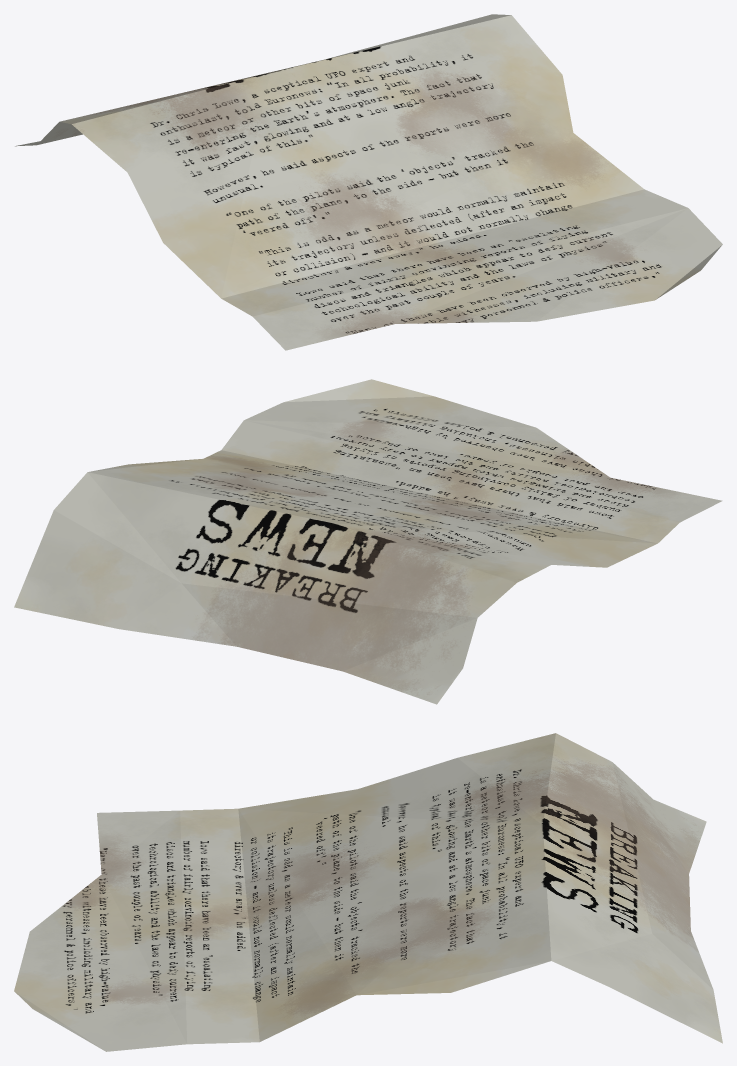
Rendered from SM_Paper_05.fbx.
3 renders of one model, top to bottom at view 1: azimuth 30°, elevation 25°; view 2: azimuth 150°, elevation 25°; view 3: azimuth 270°, elevation 25°, orthographic. The views are drawn at different scales.
Visible parts, largest first — view 1: SM_Paper_05; view 2: SM_Paper_05; view 3: SM_Paper_05.
Boxes of the visible parts, bbox=[...] form: SM_Paper_05: bbox=[15, 14, 722, 350]; SM_Paper_05: bbox=[14, 379, 722, 704]; SM_Paper_05: bbox=[14, 733, 722, 1051].
Size of the model in its own units: 33.01 by 6.04 by 41.76.
